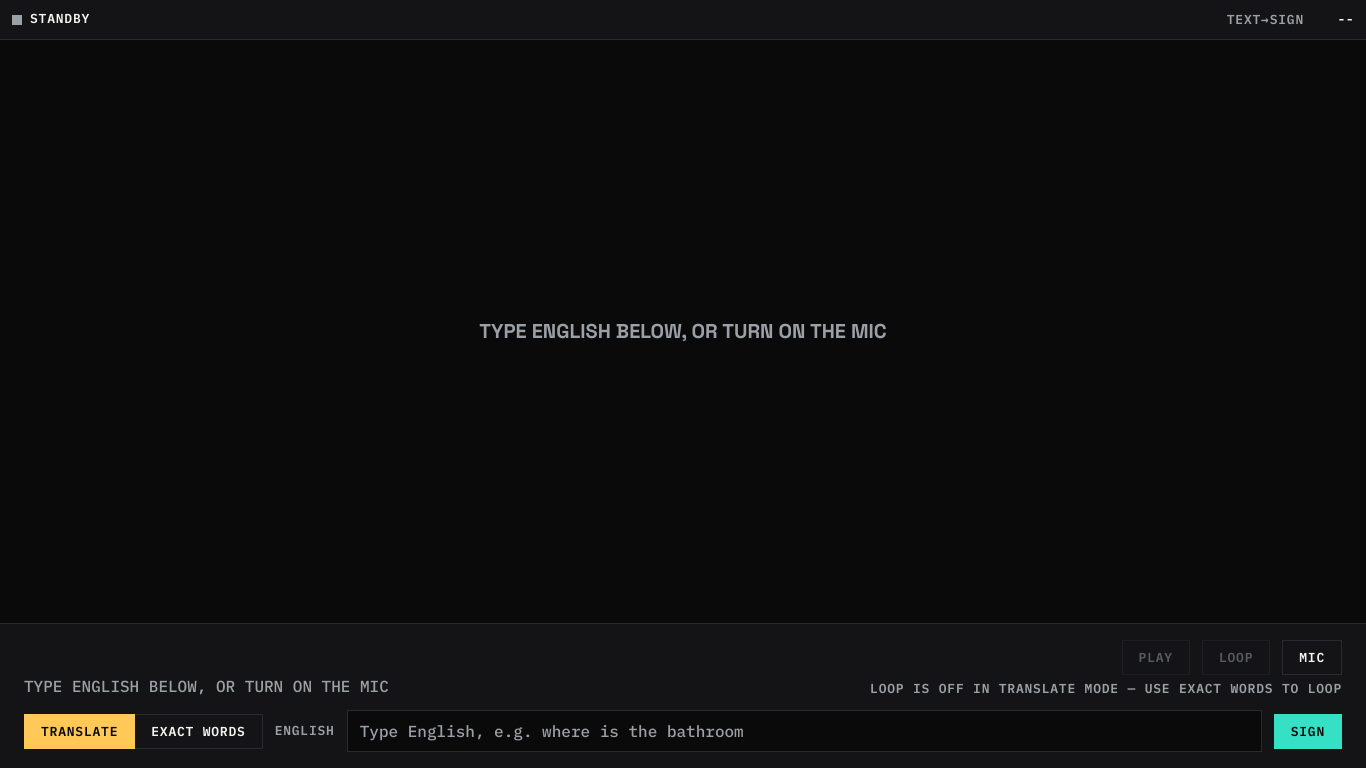
Test case: App integration: real pose-library words › renders "NO SIGN FOUND" for a guaranteed-OOV word, per App.jsx's actual StageMessage copy
Click the button "EXACT WORDS".
click(199, 731)  # box [135,714,263,748]
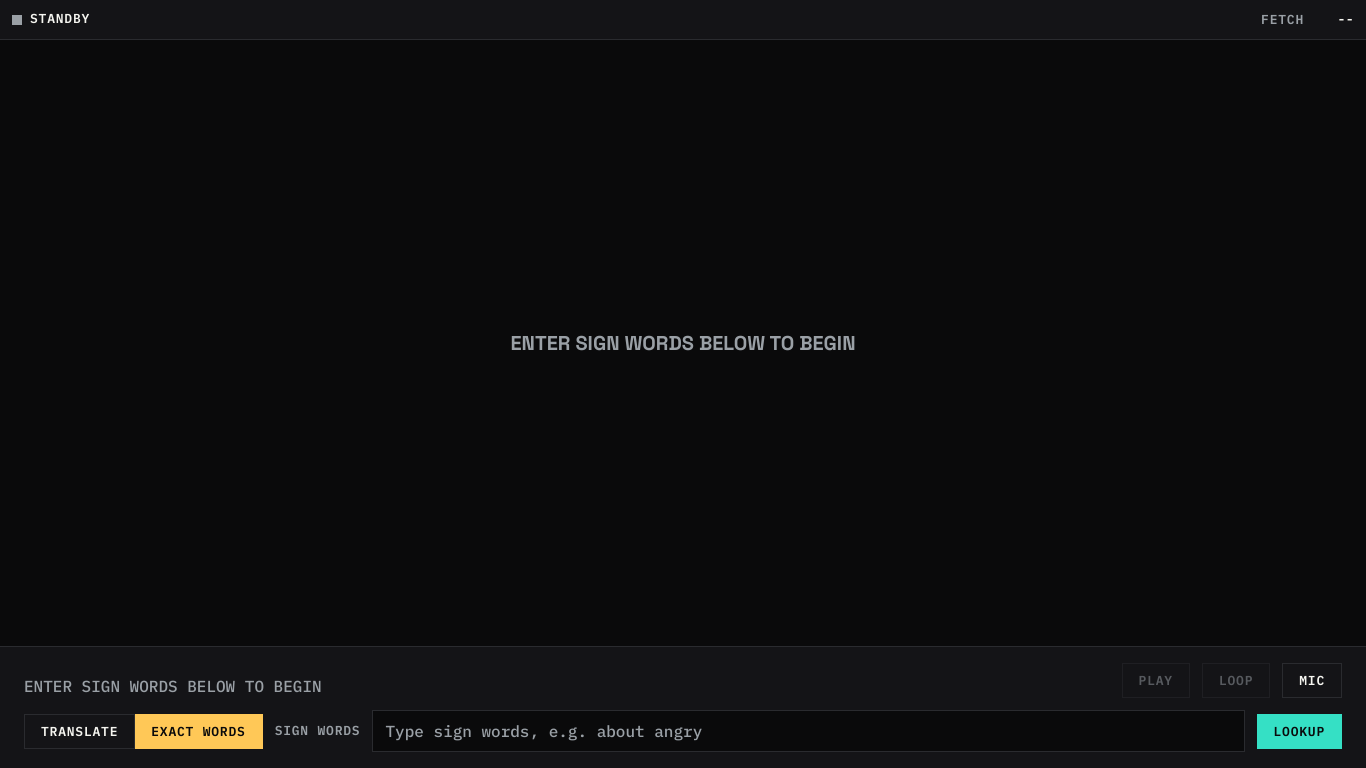
Type "xyzzynotasign" into the field labelled "SIGN WORDS".
click(808, 731); type("xyzzynotasign")  # box [372,710,1244,752]
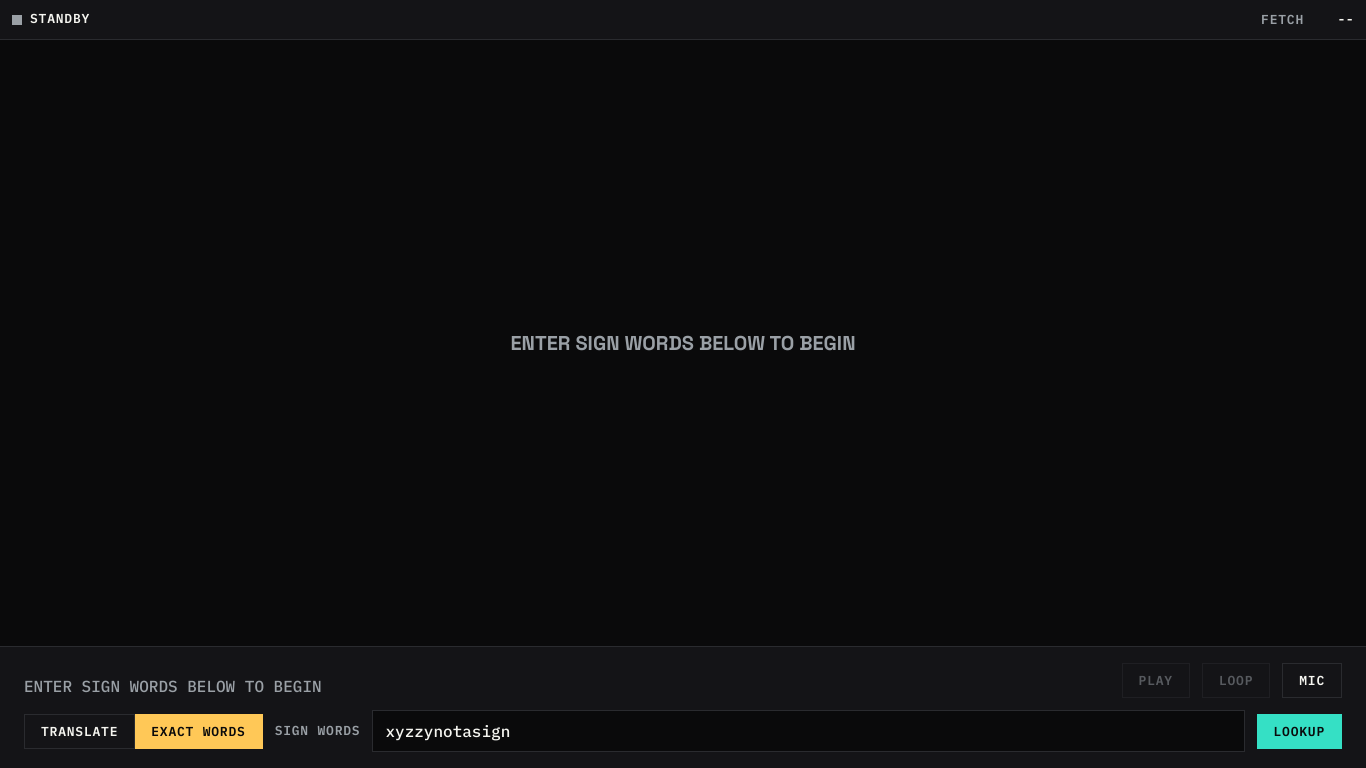
Click the button "LOOKUP".
click(1299, 731)  # box [1256,714,1342,748]
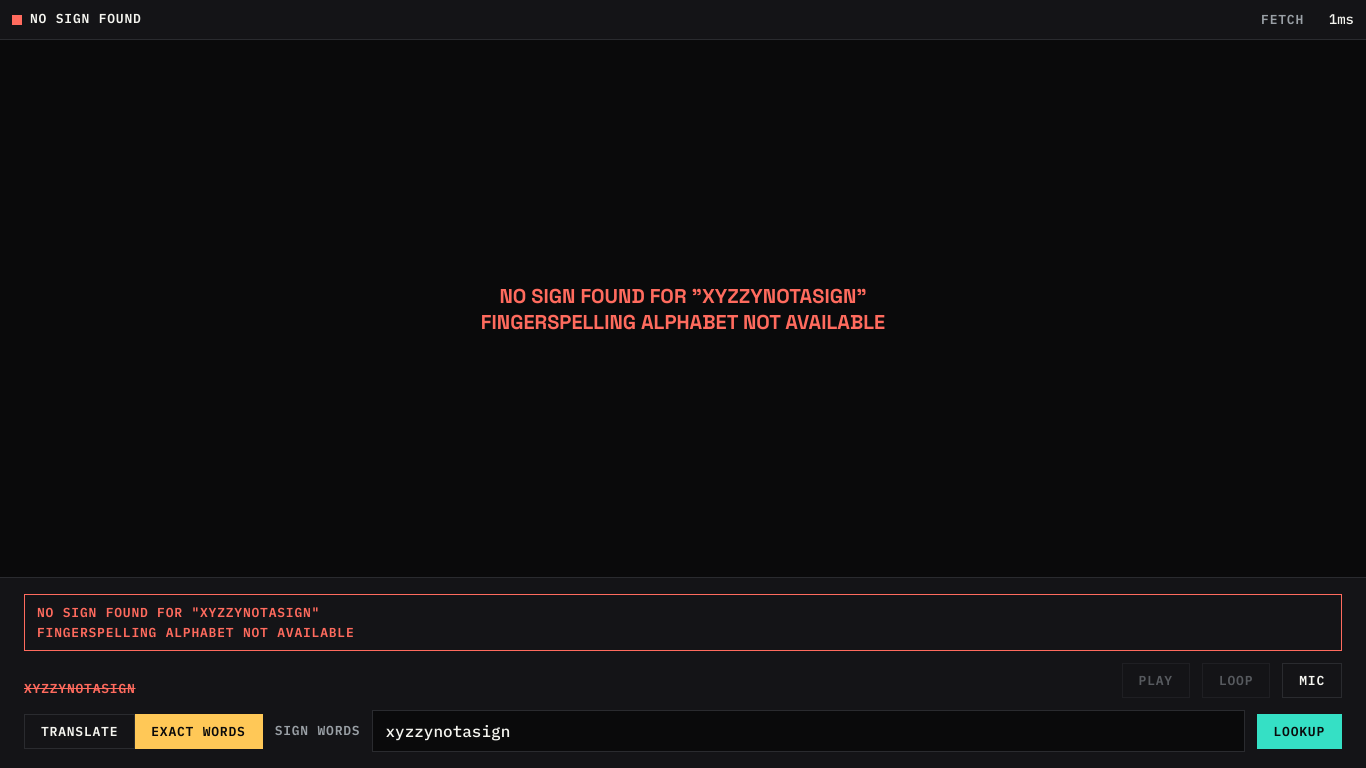
Now the text "NO SIGN FOUND FOR \"XYZZYNOTASIGN\"FINGERSPELLING ALPHABET NOT AVAILABLE" is shown 2 times, box [481,282,885,334]; [24,594,1342,651]
Now the text "NO SIGN FOUND" is shown, box [30,10,142,29]
